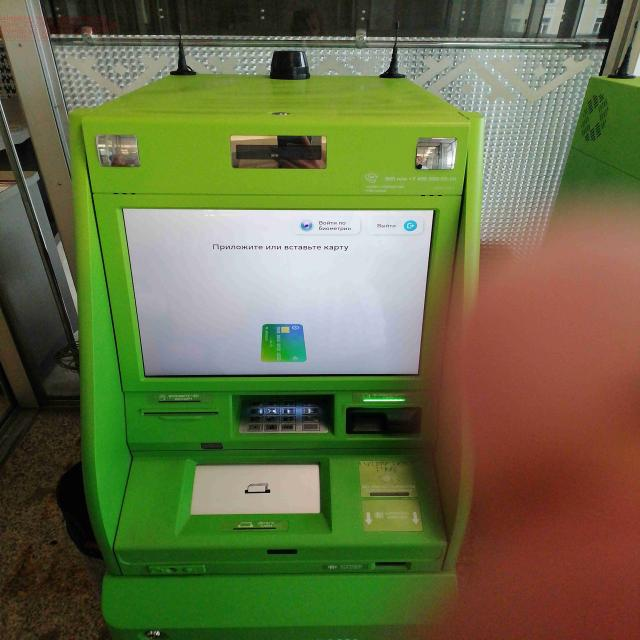bank: (60, 65, 485, 640)
